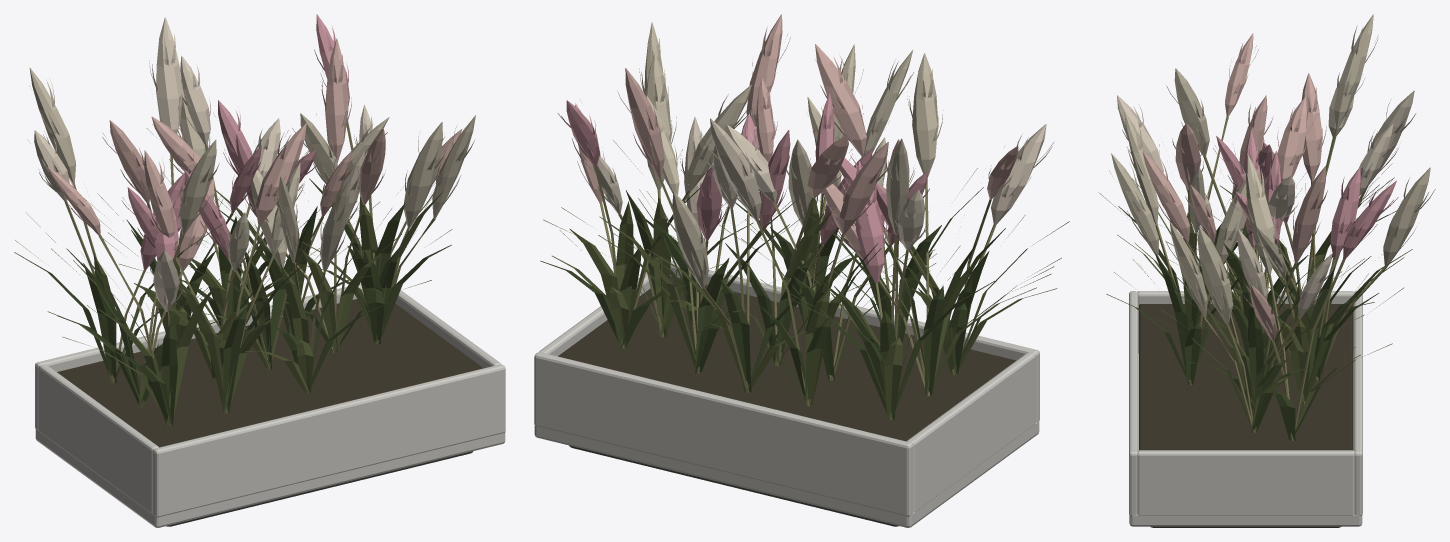
Rendered from plumes.glb.
The picture shows the model from 3 angles, left to right: view 1: azimuth 30°, elevation 25°; view 2: azimuth 150°, elevation 25°; view 3: azimuth 270°, elevation 25°; orthographic projection. The views are drawn at different scales.
Parts seen in each view (by area): view 1: SebitPlumePlanter; view 2: SebitPlumePlanter; view 3: SebitPlumePlanter.
Part boxes in pixels (x1,y1,x2,y2): SebitPlumePlanter: (14,14,505,527); SebitPlumePlanter: (534,14,1069,527); SebitPlumePlanter: (1098,14,1435,527).
Size of the model in its own units: 1.35 by 1.15 by 0.9698.
